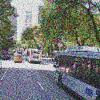buses: (52, 49, 100, 100)
